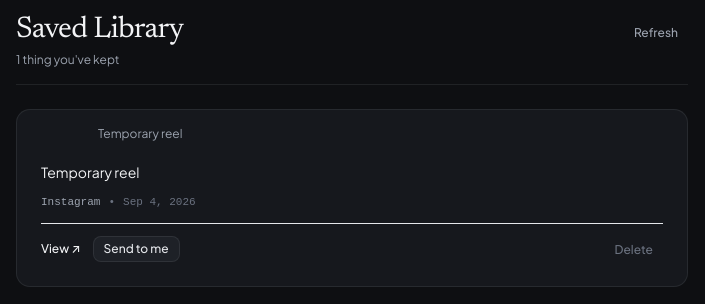
it: SavedItemsList component › handles item deletion with inline confirmation
Step 1. Click the button "Delete" → (634, 250), box [605, 238, 663, 262]
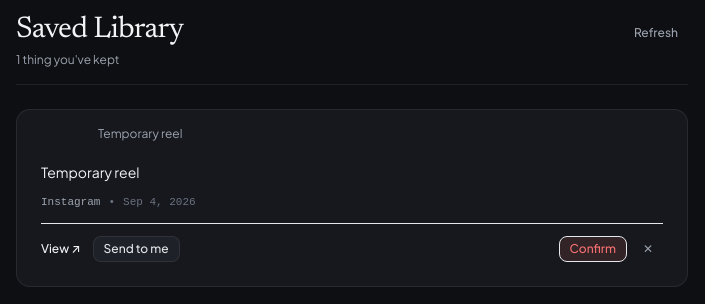
Note: Confirm button appears
Step 2. Click the button "Confirm" → (593, 248), box [559, 236, 627, 262]
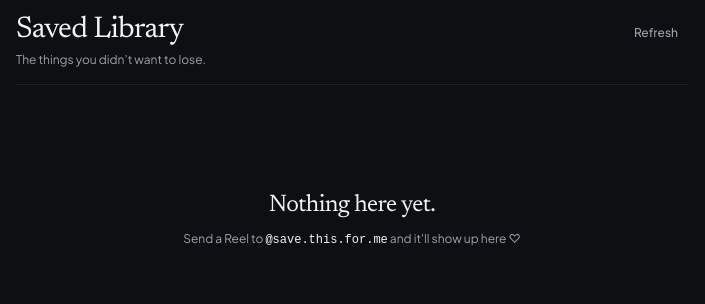
Expected: the link "Temporary reel" is gone
